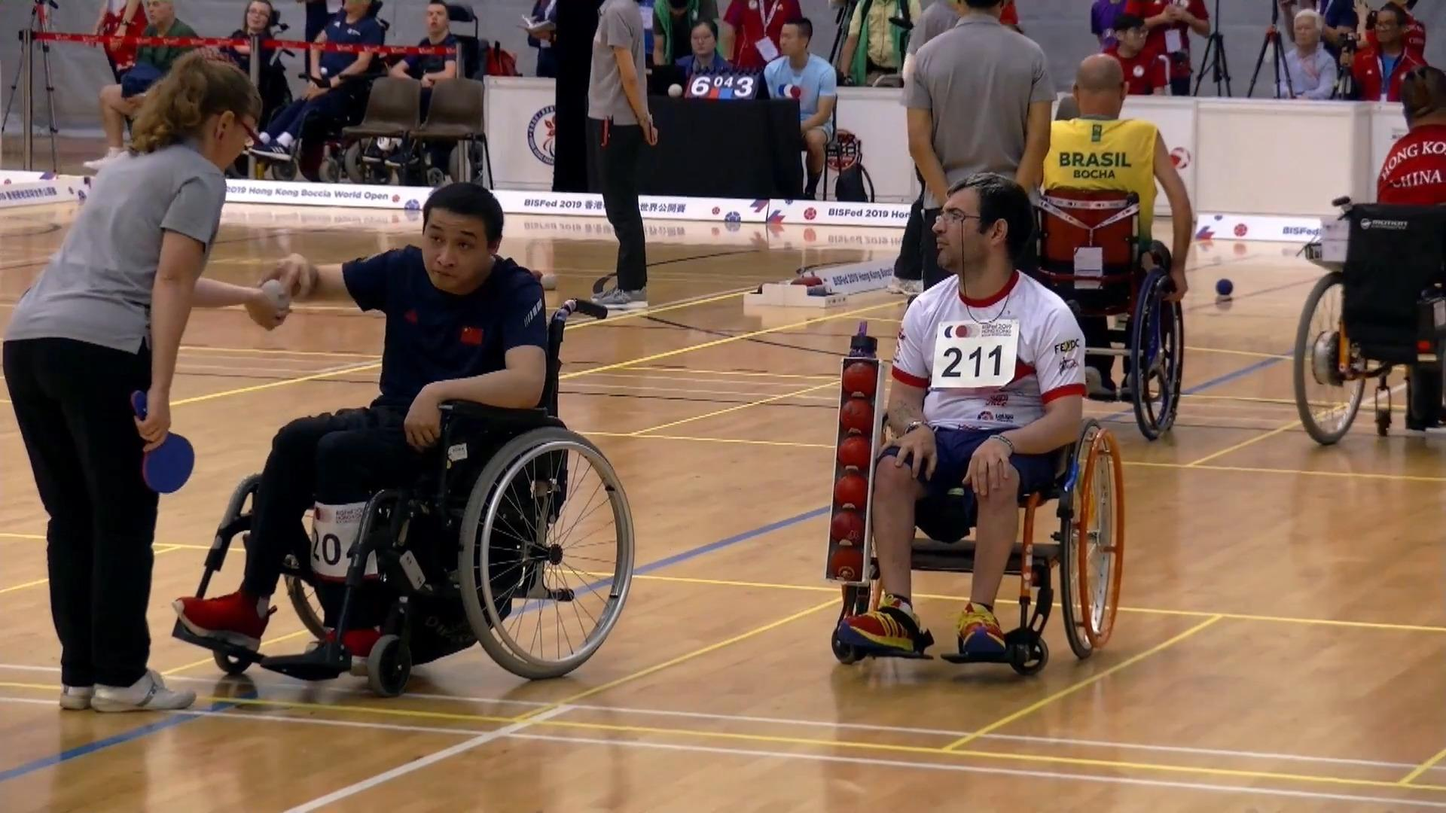blue_ball: (1216, 276, 1233, 297)
